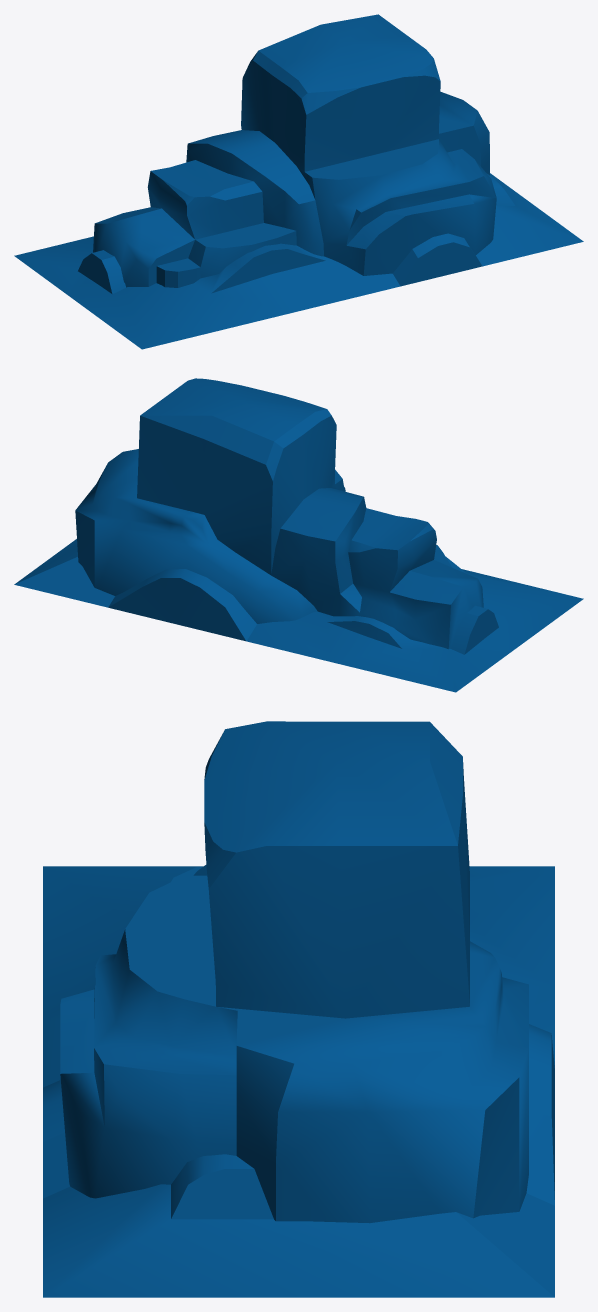
The model's file is FOL_Leaf_03.FBX.
3 renders of one model, top to bottom at view 1: azimuth 30°, elevation 25°; view 2: azimuth 150°, elevation 25°; view 3: azimuth 270°, elevation 25°, orthographic. The views are drawn at different scales.
Visible parts, largest first — view 1: FOL_Leaf_03; view 2: FOL_Leaf_03; view 3: FOL_Leaf_03.
Part boxes in pixels (bbox=[...]): FOL_Leaf_03: bbox=[14, 14, 583, 349]; FOL_Leaf_03: bbox=[14, 378, 583, 692]; FOL_Leaf_03: bbox=[43, 721, 554, 1297].
Bounding box in the file's own units: 11.96 × 4.83 × 6.
